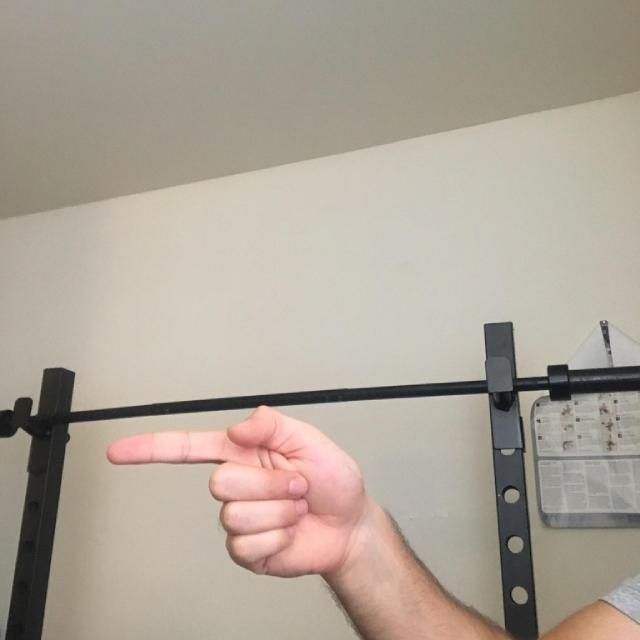G: (82, 374, 461, 615)
